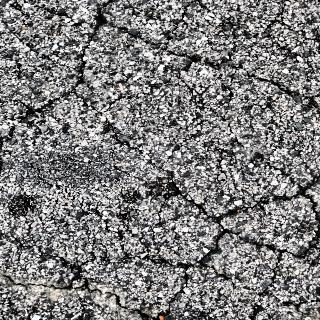alligator-crack: (1, 2, 320, 319)
